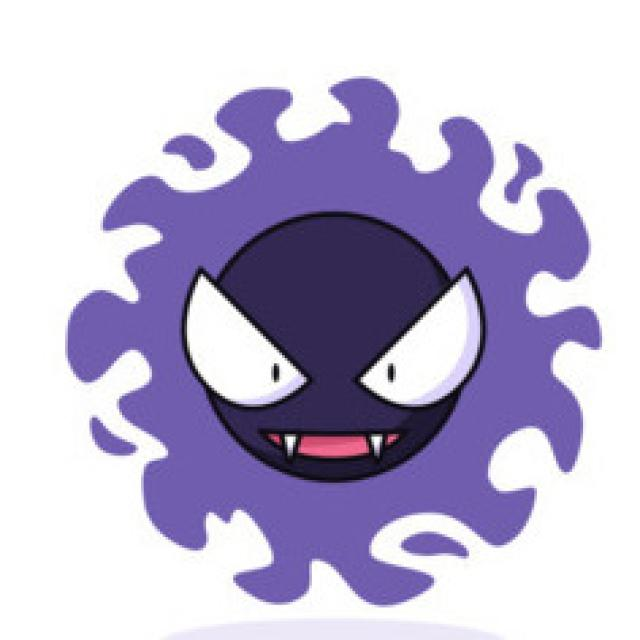Gastly: (106, 127, 544, 544)
